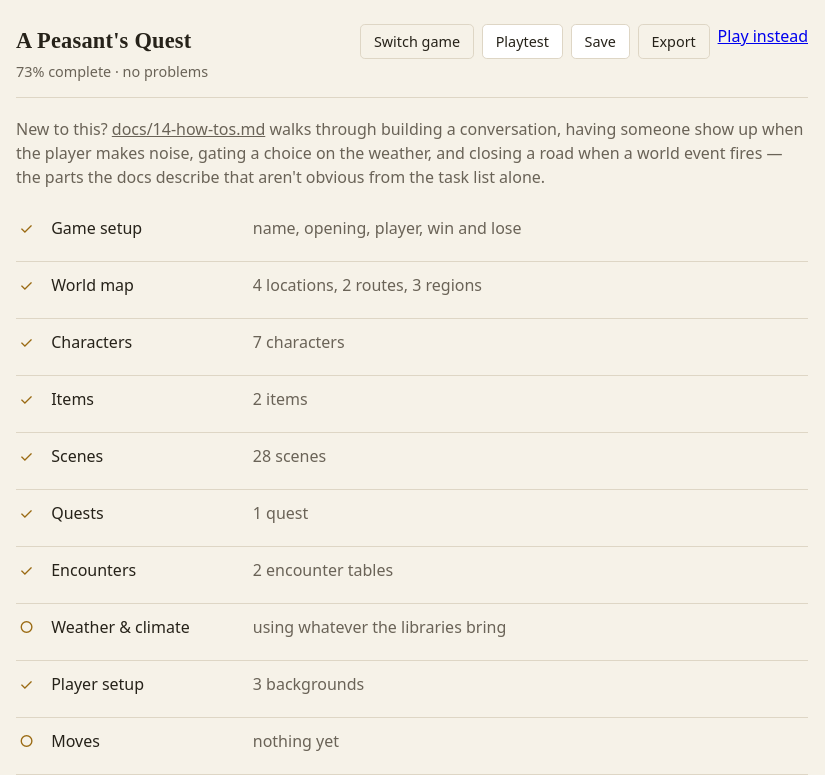
Test: a section › lists what it holds
The image size is (825, 775).
expect the heading "A Peasant's Quest" is shown: met, box [16,24,208,58]
Click the button "✓ World map 4 locations, 2 routes, 3 regions" at point(412, 290), box [16,262,808,318]
(page scrolled)
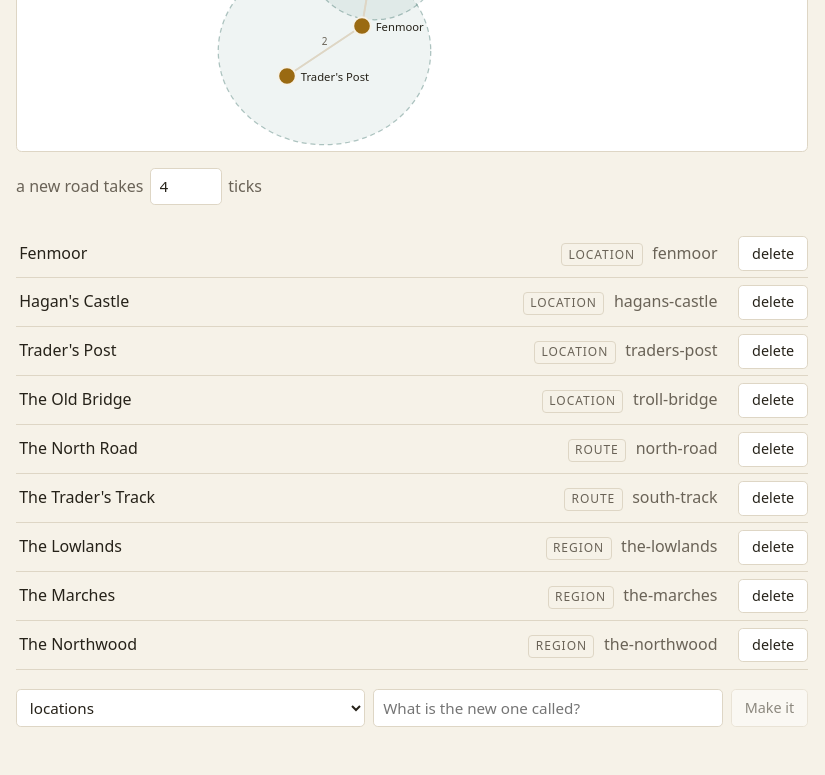
expect the button with aria-label "Open Fenmoor" is shown: met, box [16,229,730,277]
expect the button with aria-label "Open The North Road" is shown: met, box [16,425,730,473]
